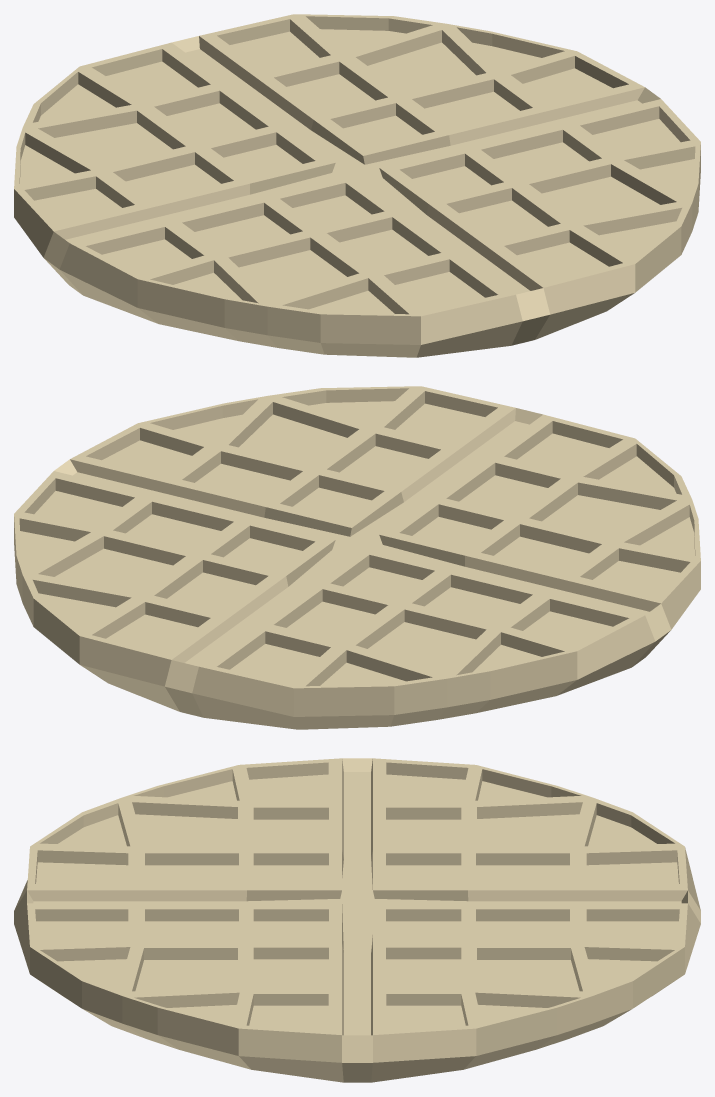
The model's file is Waffle.fbx.
3 views of the same model, one above another, from view 1: azimuth 30°, elevation 25°; view 2: azimuth 150°, elevation 25°; view 3: azimuth 270°, elevation 25° (orthographic). The views are drawn at different scales.
Parts seen in each view (by area): view 1: pPlane1; view 2: pPlane1; view 3: pPlane1.
Boxes of the visible parts, x1,y1,x2,y2 form: pPlane1: (14,14,700,357); pPlane1: (14,386,700,729); pPlane1: (14,758,700,1082).
Size of the model in its own units: 6.74 by 0.5943 by 6.84.
